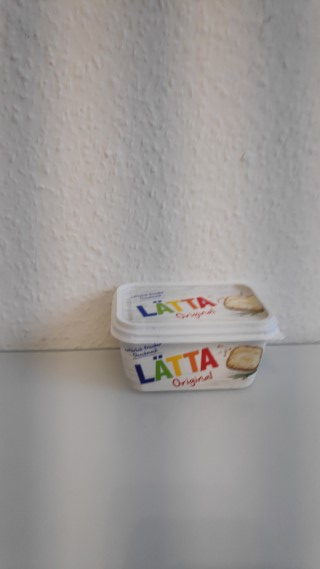laetta: (111, 281, 284, 392)
